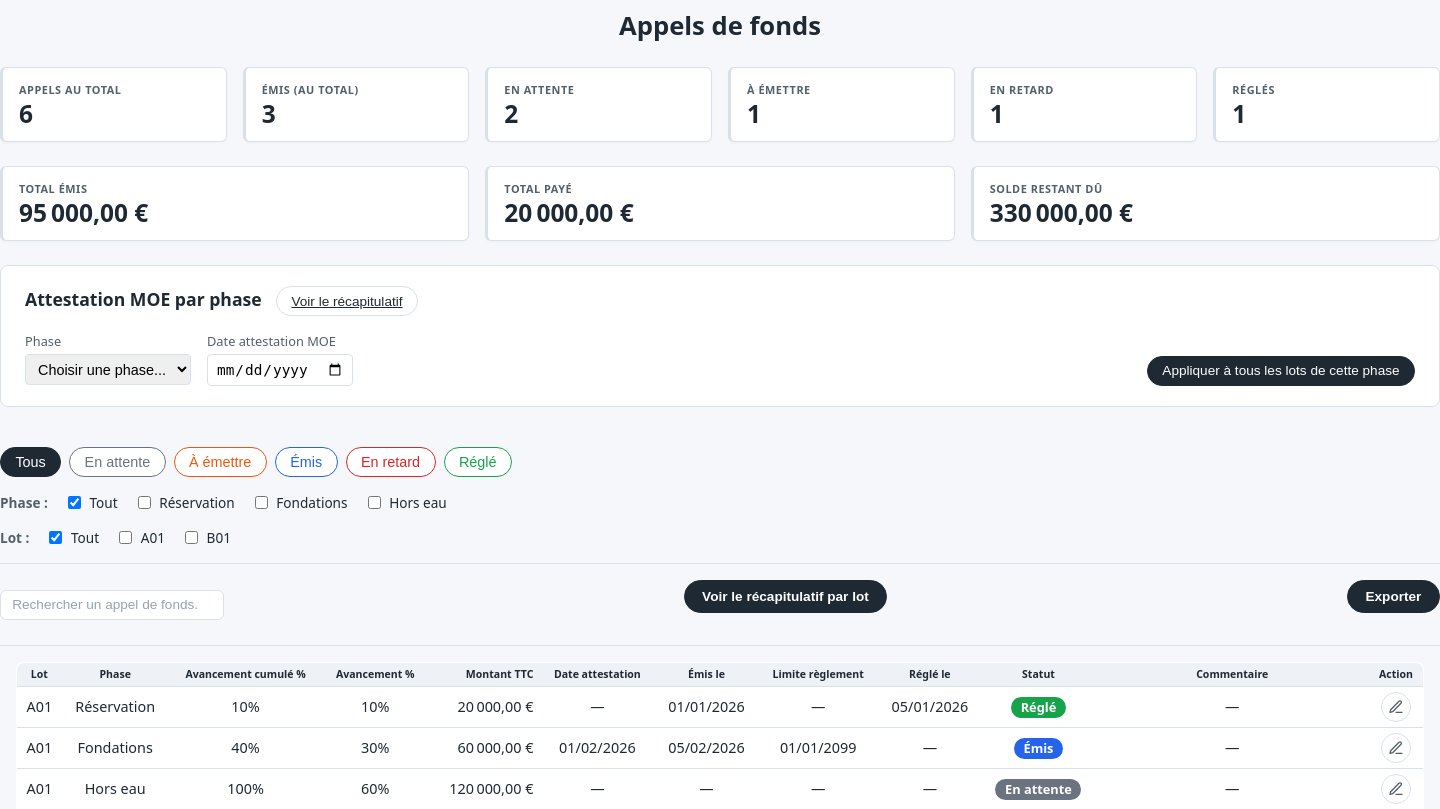
AppelsDeFonds — récapitulatif par lot › masqué par défaut, affiché au clic avec les bonnes lignes et totaux, masqué à nouveau au clic suivant
Expected: the text "Reste à payer" is not shown
What coordinates should you click on to do the following:
click the button "Voir le récapitulatif par lot"
I would click on:
 (785, 597)
Its box is [684,580,887,613].
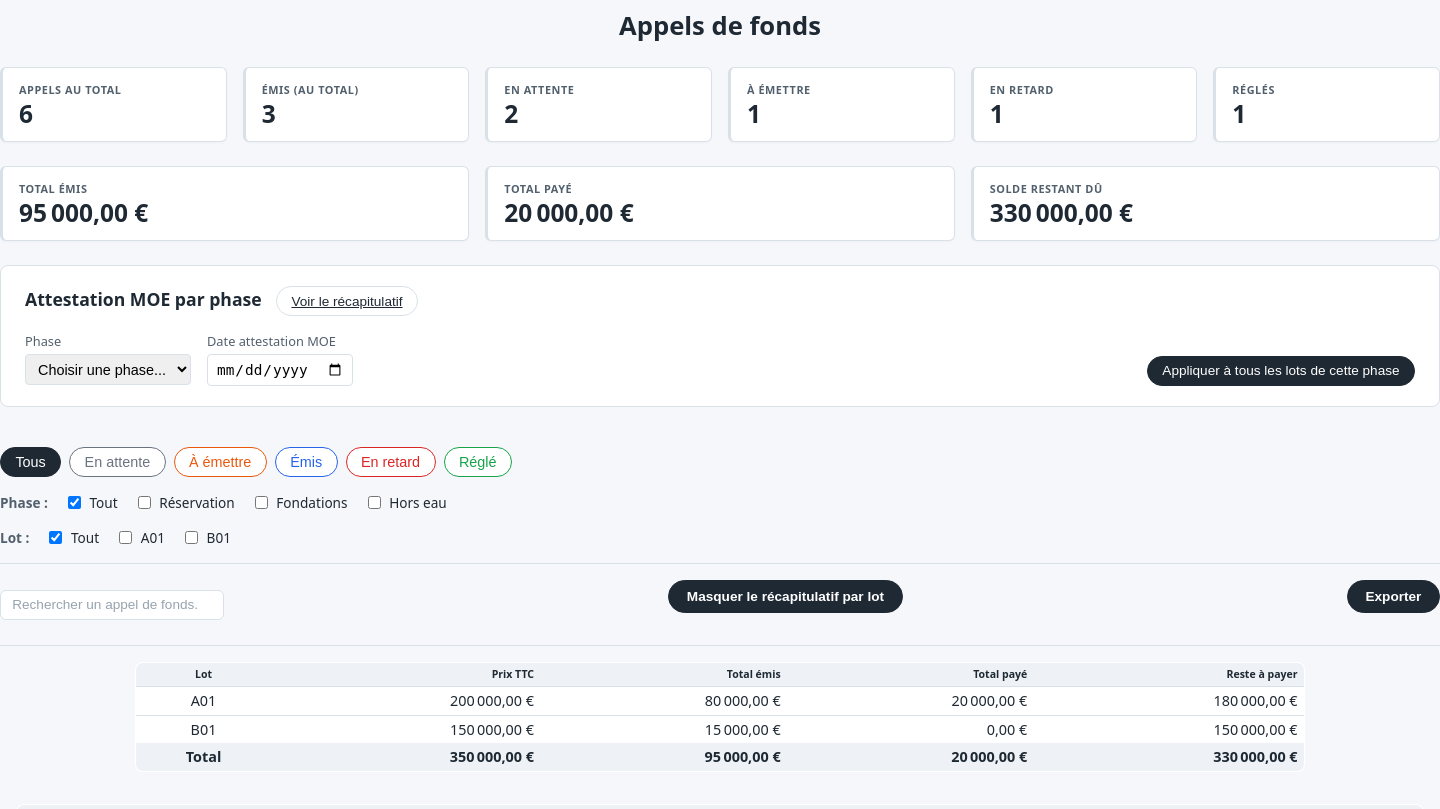
Expected: the text "180 000,00 €" is shown, [1034,687,1304,715]
What coordinates should you click on to do the following:
click the button "Masquer le récapitulatif par lot"
I would click on:
 (786, 597)
Its box is [668,580,903,613].
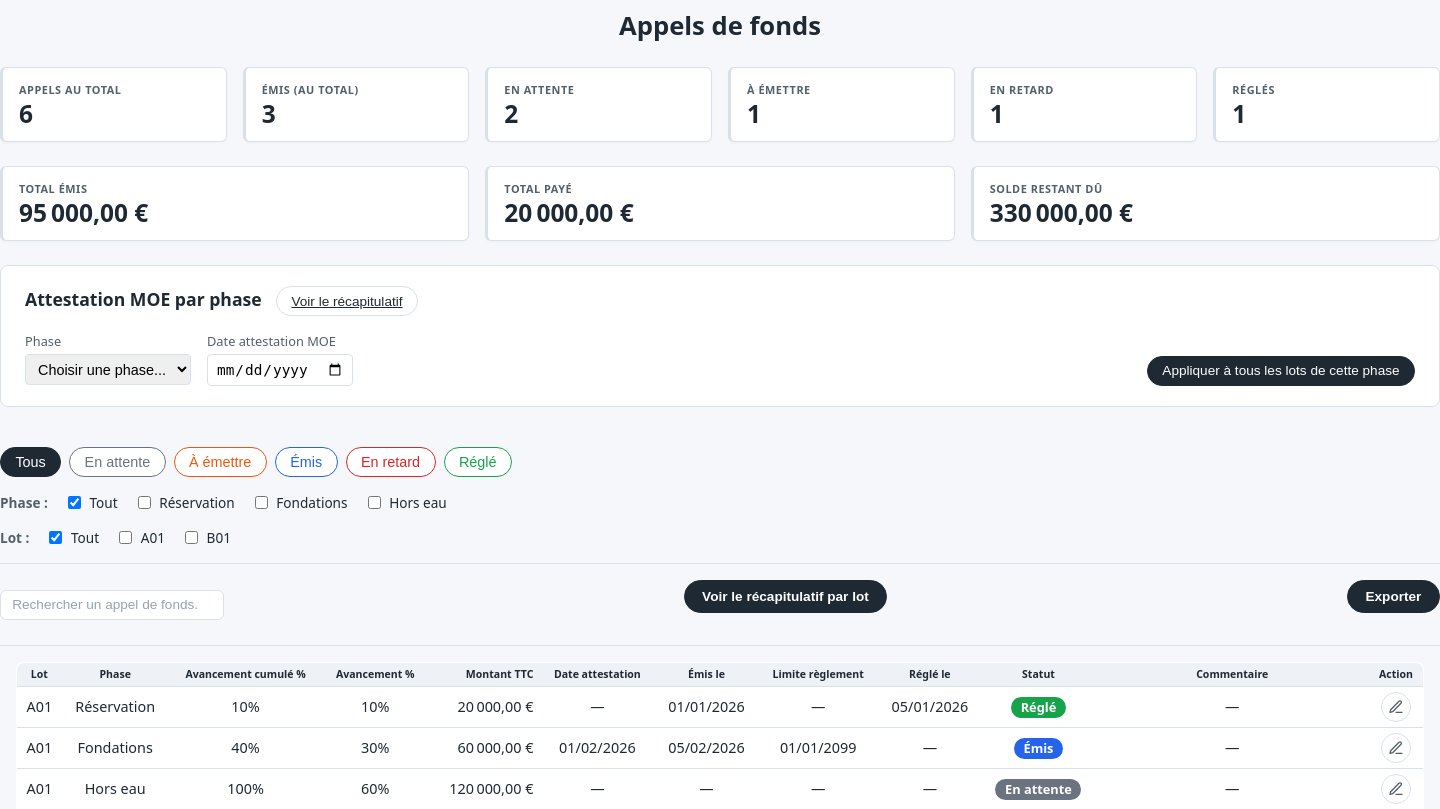
Expected: the column heading "Reste à payer" is gone
